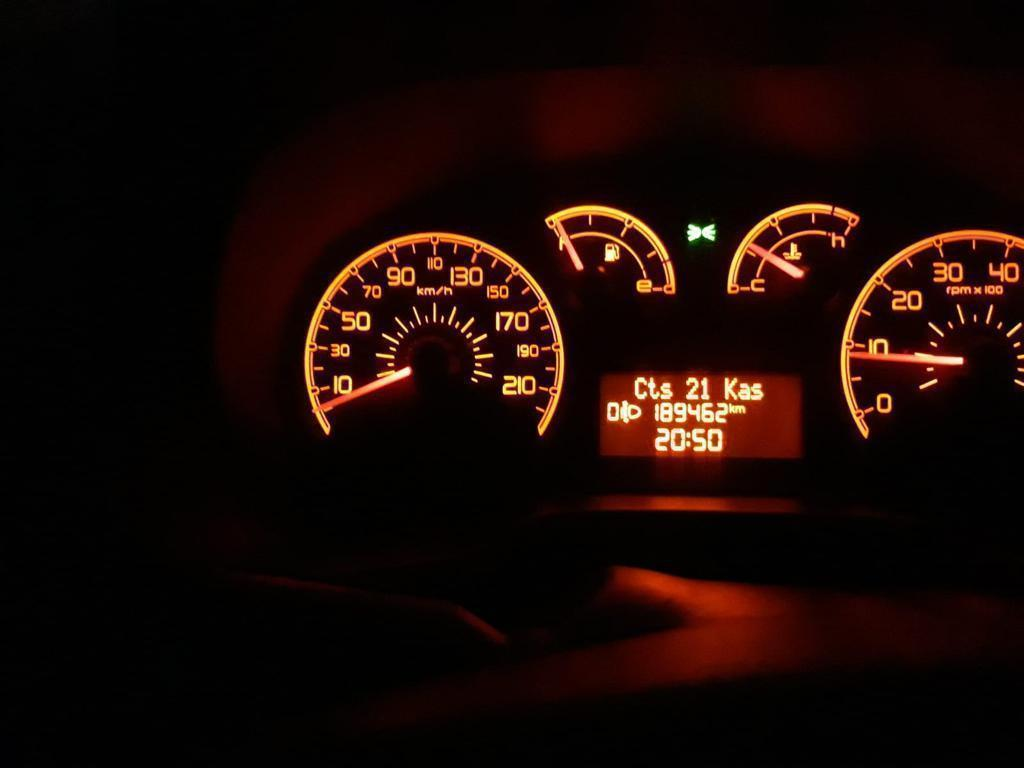0: (706, 428, 723, 453), (670, 427, 686, 452), (605, 401, 619, 421)
1: (699, 376, 710, 400), (653, 402, 659, 421)
2: (653, 427, 670, 452), (684, 376, 698, 400), (714, 401, 729, 423)
4: (687, 402, 700, 422)
5: (691, 428, 706, 452)
6: (701, 402, 714, 423)
8: (659, 401, 673, 423)
9: (673, 401, 687, 423)
X: (723, 376, 738, 401), (633, 375, 647, 400), (647, 376, 659, 400), (659, 381, 674, 399), (750, 382, 764, 401), (738, 382, 750, 401), (735, 404, 747, 414), (685, 431, 691, 447), (729, 402, 735, 414)
odometer: (595, 367, 808, 462)
